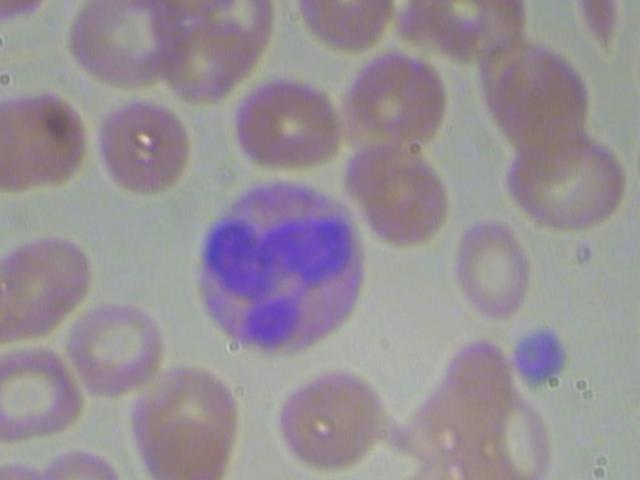Platelets: (488, 116, 638, 249)
RBC: (257, 347, 406, 480), (219, 61, 359, 186), (329, 36, 461, 167), (51, 284, 174, 408), (79, 86, 200, 206), (439, 206, 552, 331), (0, 222, 110, 350), (0, 241, 15, 369)
WBC: (498, 319, 582, 392)
